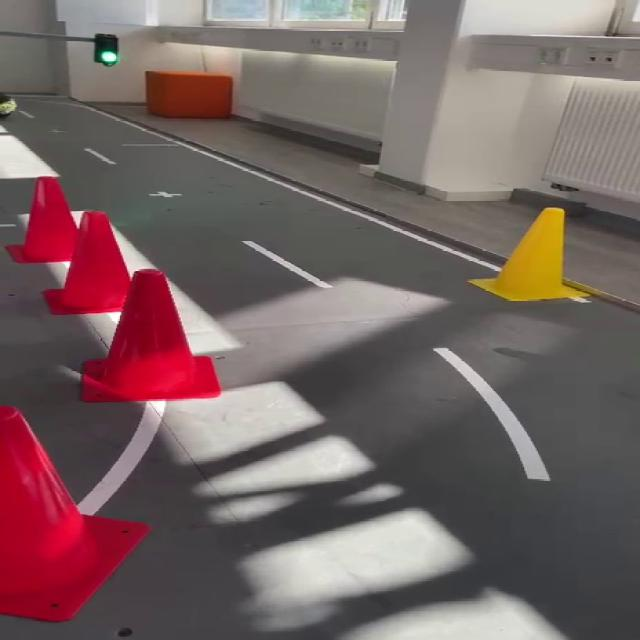Cone-red: (0, 406, 149, 621), (80, 269, 218, 402), (44, 211, 130, 315), (7, 178, 76, 262)
Cones-yellow: (468, 208, 589, 301)
